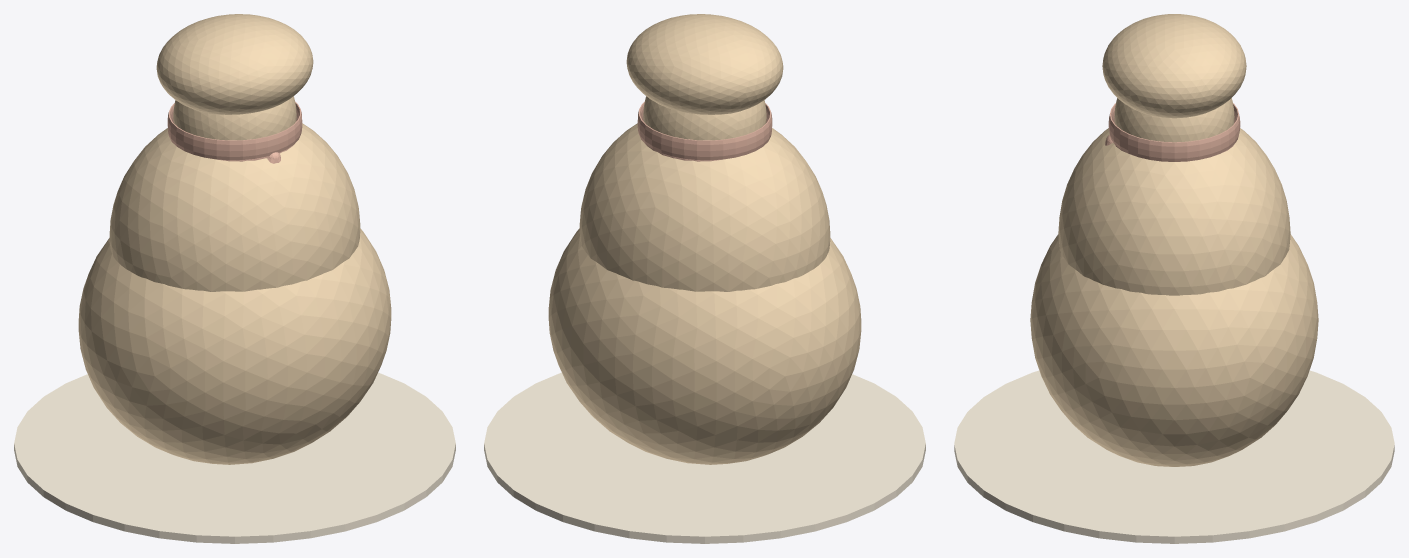
The model's file is sack.glb.
3 views of the same model, side by side, from view 1: azimuth 30°, elevation 25°; view 2: azimuth 150°, elevation 25°; view 3: azimuth 270°, elevation 25° (orthographic).
Visible parts, largest first — view 1: Body_Low, Spot, Body_Mid, Top_Flare, Neck, Rope1; view 2: Body_Low, Spot, Body_Mid, Top_Flare, Neck, Rope1; view 3: Body_Low, Spot, Body_Mid, Top_Flare, Neck, Rope1.
Boxes of the visible parts, box(x1,y1,x2,y2) form: Body_Low: box(78, 228, 391, 464); Spot: box(14, 372, 455, 543); Body_Mid: box(109, 123, 360, 291); Top_Flare: box(156, 14, 313, 114); Neck: box(173, 96, 296, 140); Rope1: box(167, 101, 302, 160); Body_Low: box(548, 228, 861, 464); Spot: box(484, 372, 925, 543); Body_Mid: box(579, 123, 830, 291); Top_Flare: box(626, 14, 783, 114); Neck: box(643, 96, 766, 140); Rope1: box(637, 101, 772, 160); Body_Low: box(1030, 234, 1318, 466); Spot: box(954, 370, 1394, 543); Body_Mid: box(1058, 128, 1290, 295); Top_Flare: box(1102, 14, 1246, 118); Neck: box(1114, 98, 1234, 142); Rope1: box(1108, 103, 1240, 161).
Bounding box in the file's own units: 1.1 × 1.17 × 1.1.
